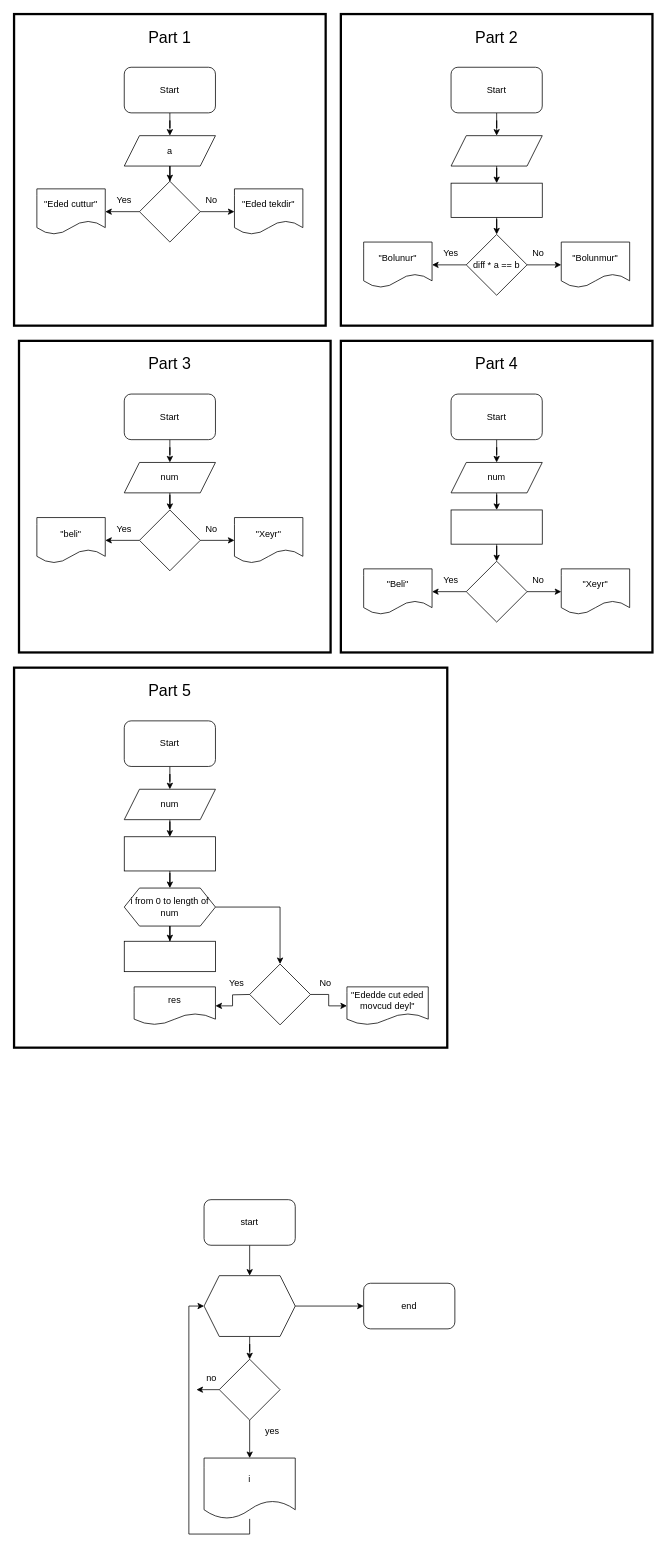
The diagram is 667 pixels wide and 1553 high, and some of its shapes have lost their labels. The shapes that lost their labels are listed below. From the top down, each one's centre as x and y in pixels, then its label:
(x=496, y=150): a, b
(x=169, y=211): a % 2 = 0
(x=496, y=199): diff = a / b
(x=169, y=540): num % 10 == 7
(x=496, y=526): res = num / 11
(x=496, y=591): res * 11 == num
(x=169, y=853): num = num.Split("")
(x=169, y=956): res *= num[i]
(x=279, y=994): res % 2 == 0
(x=249, y=1305): i from 1 to 10
(x=249, y=1389): i mod 2 = 0
